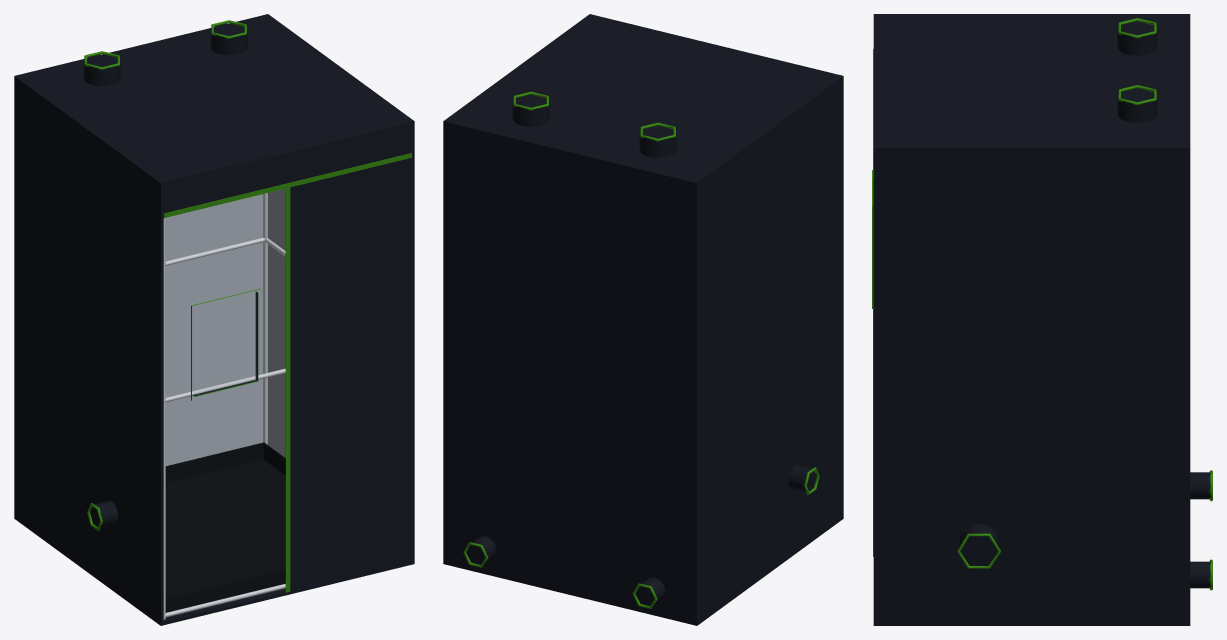
File: grow-tent--120x120x200.glb
3 views of the same model, side by side, from view 1: azimuth 30°, elevation 25°; view 2: azimuth 150°, elevation 25°; view 3: azimuth 270°, elevation 25° (orthographic). The views are drawn at different scales.
Parts seen in each view (by area): view 1: panel_side_left, door_main_right, panel_top, lining_back, floor_tray, panel_upper_front, lining_right, zip_door_1, panel_bottom, tray_lip_front, tray_lip_back, panel_side_right (+7 smaller); view 2: panel_back, panel_side_left, panel_top, panel_side_right, panel_bottom, vent_port_roof_1_sleeve, vent_port_roof_2_sleeve; view 3: panel_side_right, panel_top, panel_bottom, vent_port_side_right_1_iris, vent_port_roof_2_sleeve, vent_port_roof_1_sleeve, cable_port_1_sleeve, cable_port_2_sleeve.
Boxes of the visible parts, x1,y1,x2,y2 form: panel_side_left: [14, 79, 163, 622]; door_main_right: [290, 158, 411, 591]; panel_top: [14, 14, 414, 186]; lining_back: [165, 194, 263, 465]; floor_tray: [165, 459, 285, 597]; panel_upper_front: [163, 125, 411, 213]; lining_right: [268, 188, 285, 457]; zip_door_1: [285, 185, 290, 592]; panel_bottom: [14, 516, 414, 625]; tray_lip_front: [165, 568, 285, 612]; tray_lip_back: [165, 442, 264, 483]; panel_side_right: [411, 124, 414, 561]; panel_back: [446, 125, 694, 621]; panel_side_left: [694, 79, 843, 622]; panel_top: [443, 14, 843, 186]; panel_side_right: [443, 124, 446, 561]; panel_bottom: [443, 516, 843, 625]; vent_port_roof_1_sleeve: [639, 132, 676, 157]; vent_port_roof_2_sleeve: [512, 102, 549, 126]; panel_side_right: [873, 151, 1190, 622]; panel_top: [873, 14, 1190, 150]; panel_bottom: [873, 622, 1190, 625]; vent_port_side_right_1_iris: [960, 533, 998, 565]; vent_port_roof_2_sleeve: [1117, 95, 1157, 122]; vent_port_roof_1_sleeve: [1117, 28, 1157, 55]; cable_port_1_sleeve: [1190, 472, 1210, 499]; cable_port_2_sleeve: [1190, 561, 1210, 588].
Size of the model in its own units: 1.37 by 2.09 by 1.29.
